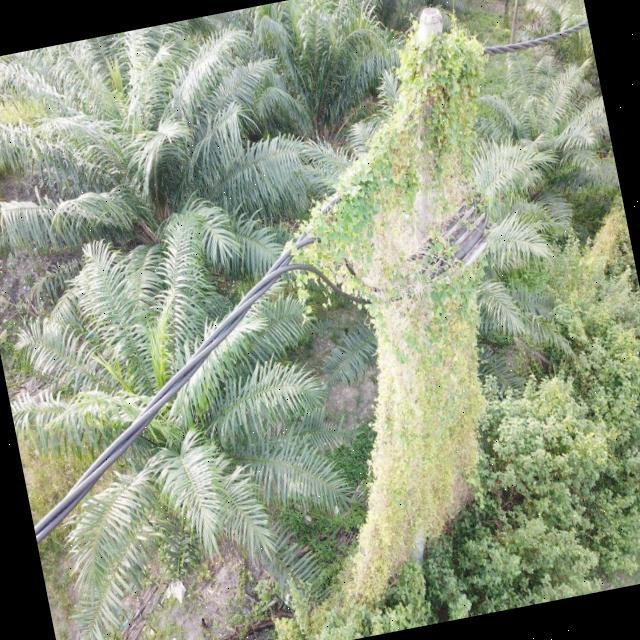critical vegetation: (232, 0, 587, 587)
